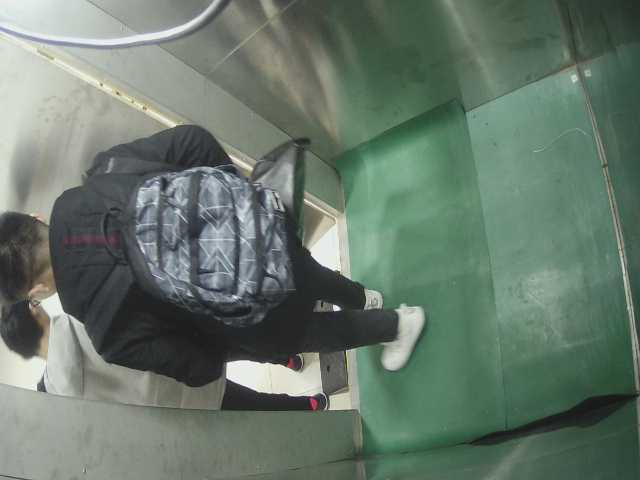bag: (127, 158, 308, 334)
person: (1, 123, 434, 375)
